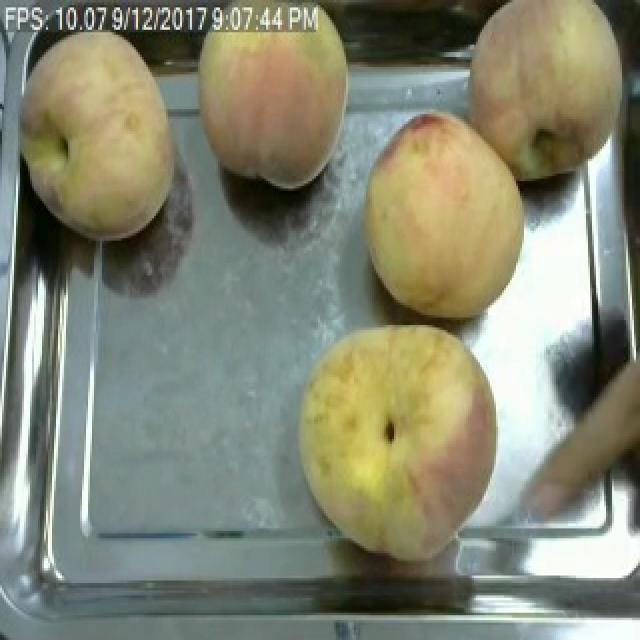Fruit: (286, 310, 514, 571), (352, 99, 542, 330), (16, 15, 190, 248), (456, 0, 638, 196), (186, 32, 362, 201)
